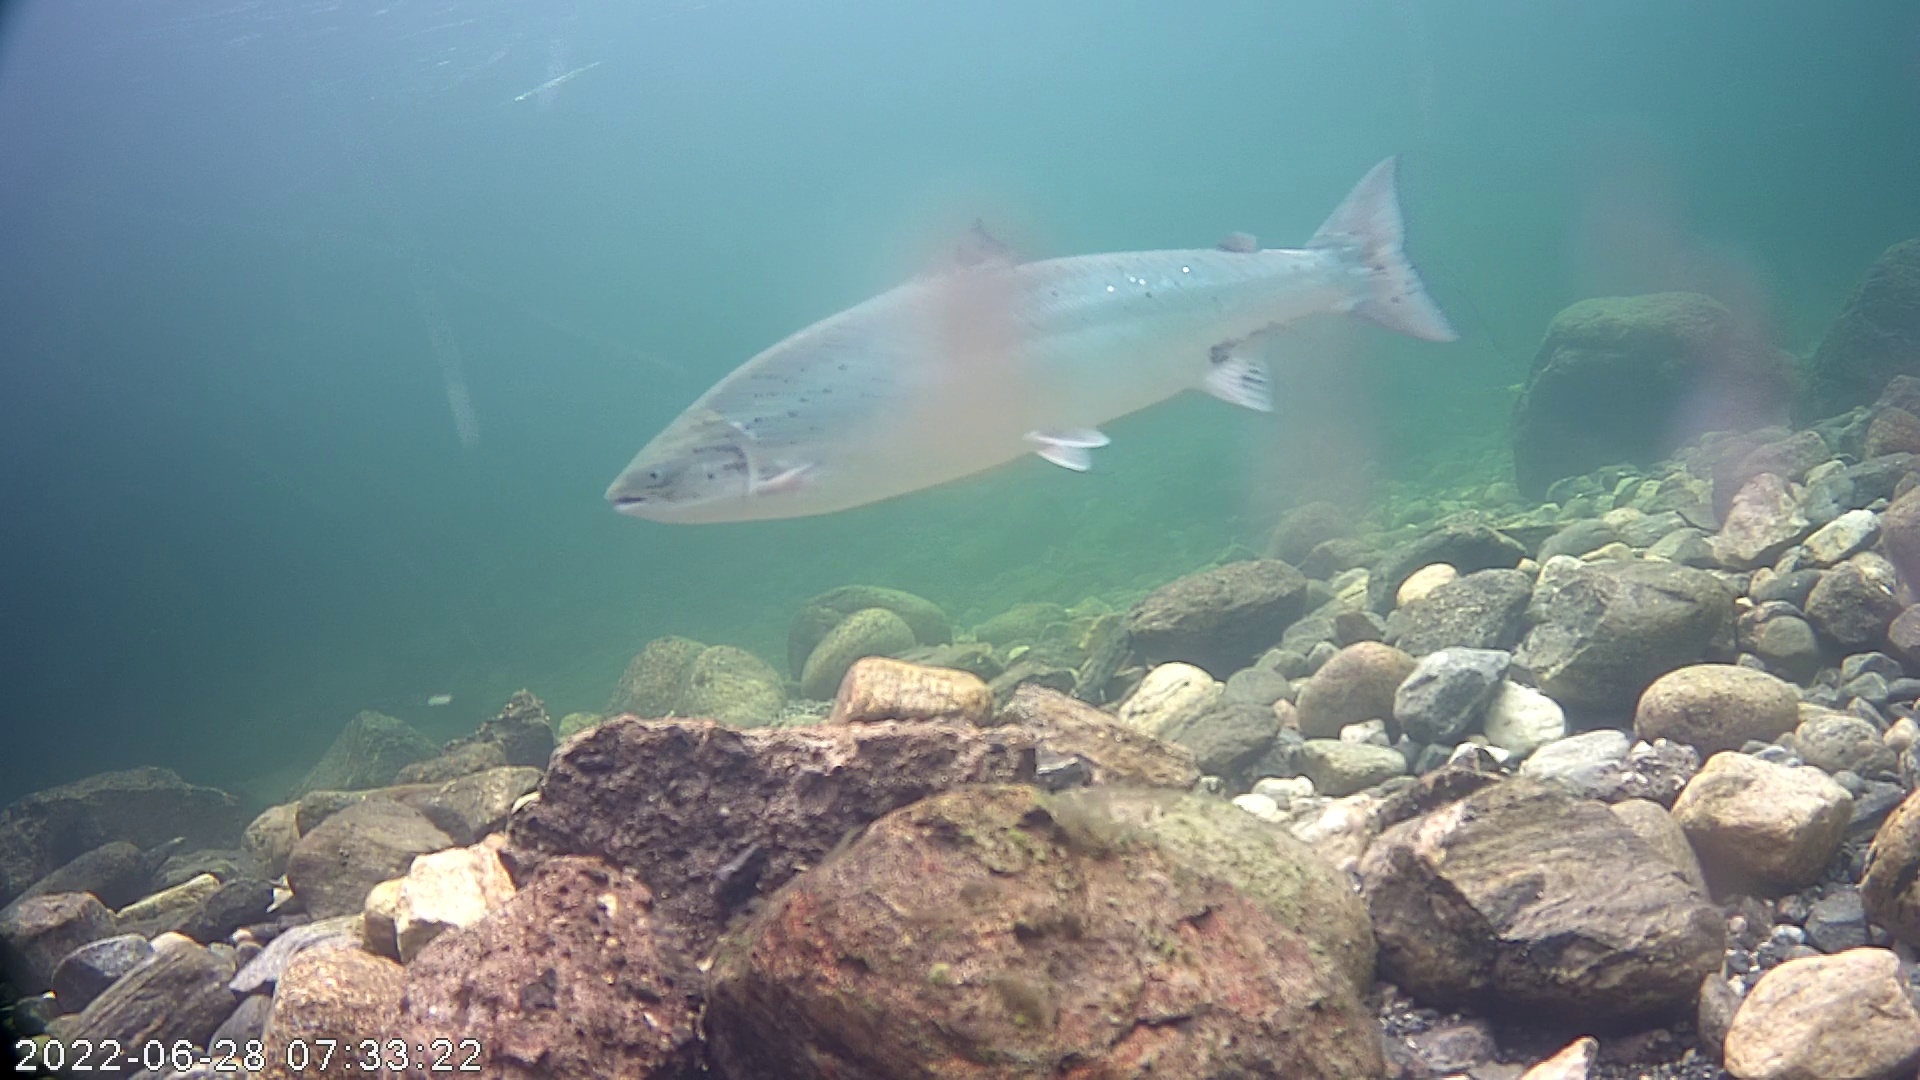salmon: (595, 120, 1482, 549)
